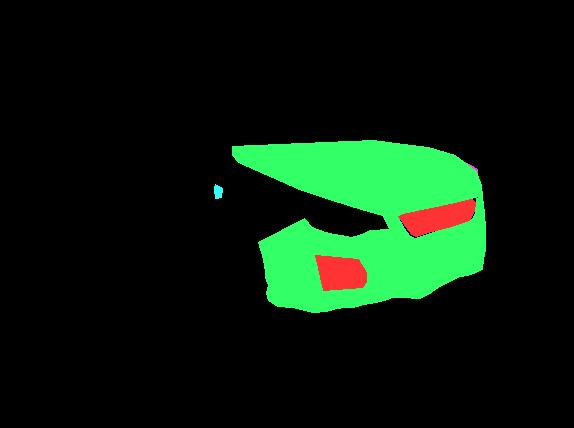Broken part: (258, 196, 485, 312), (232, 140, 482, 217)
Dent: (307, 148, 477, 215), (308, 230, 434, 292)
Flaking: (214, 184, 222, 198)
Missing part: (398, 188, 475, 236), (315, 255, 366, 290)
